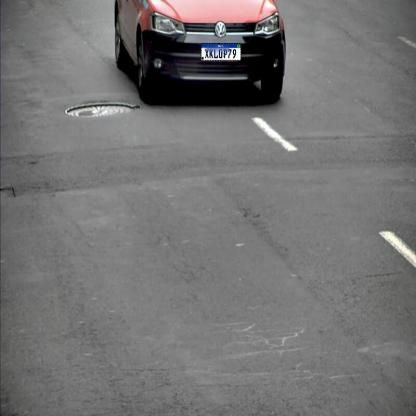PlacaM: (201, 43, 241, 61)
